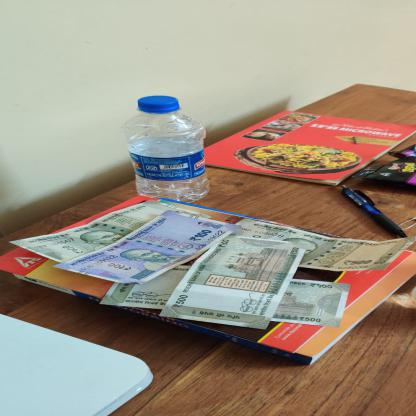New100Front: (51, 209, 244, 285)
New500Back: (98, 265, 352, 328), (159, 236, 310, 330)
New500Front: (6, 199, 212, 264), (235, 218, 415, 271)
